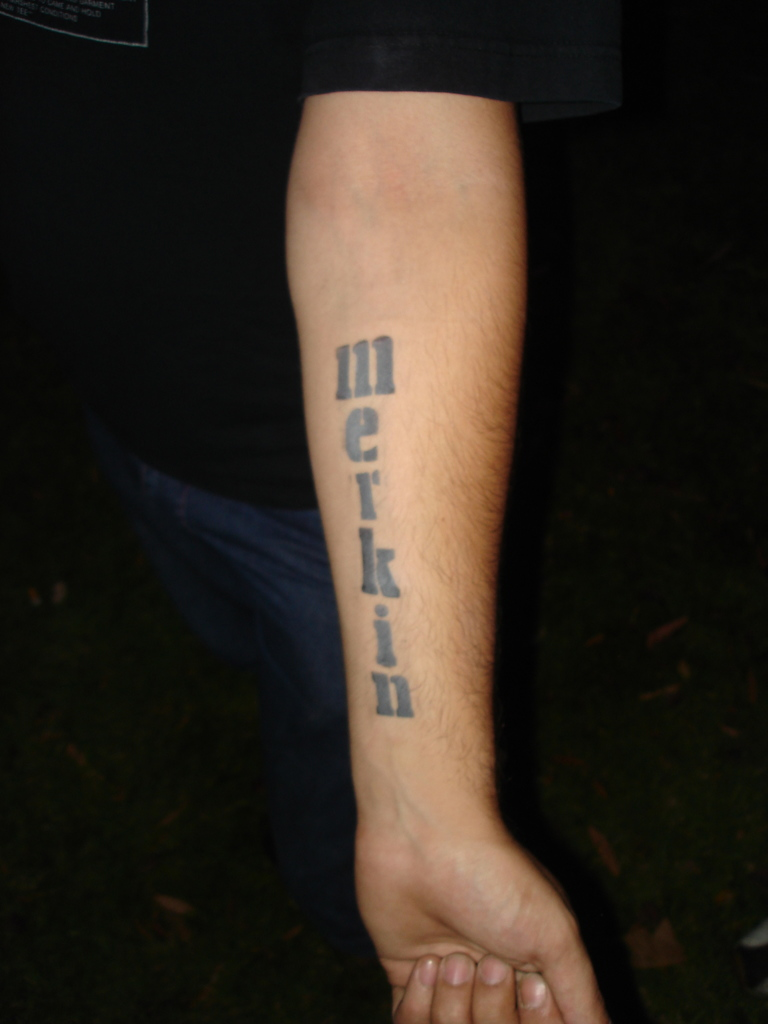Person: (0, 0, 629, 1024)
